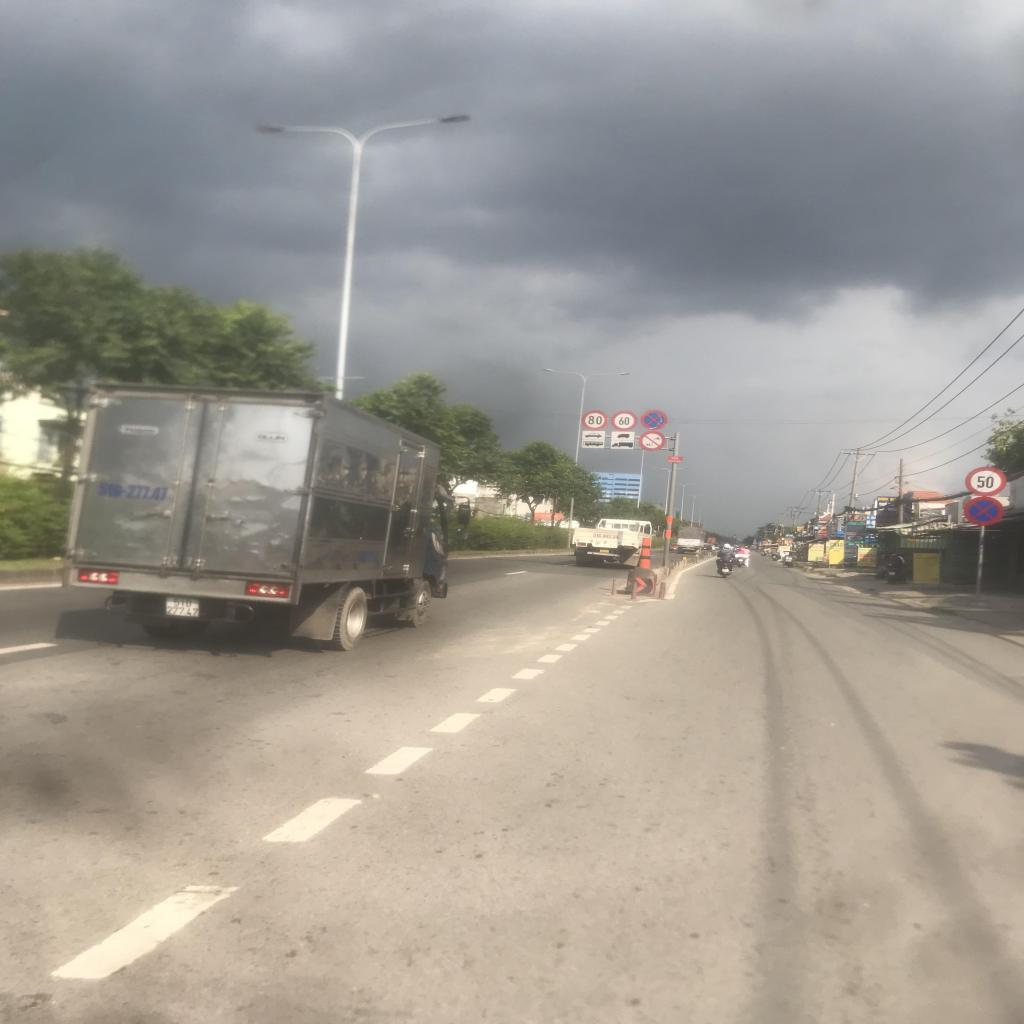cam_dung_xe_va_do_xe: (963, 496, 1004, 526), (640, 410, 668, 430)
cam_xe_2_banh_va_xe_3_banh_co_dong_co: (638, 431, 666, 451)
khac: (582, 430, 605, 440), (611, 431, 635, 440), (581, 440, 605, 448), (610, 441, 634, 449)
toc_do_toi_da_50: (965, 466, 1007, 496)
toc_do_toi_da_60: (611, 411, 637, 431)
toc_do_toi_da_80: (582, 410, 608, 430)
